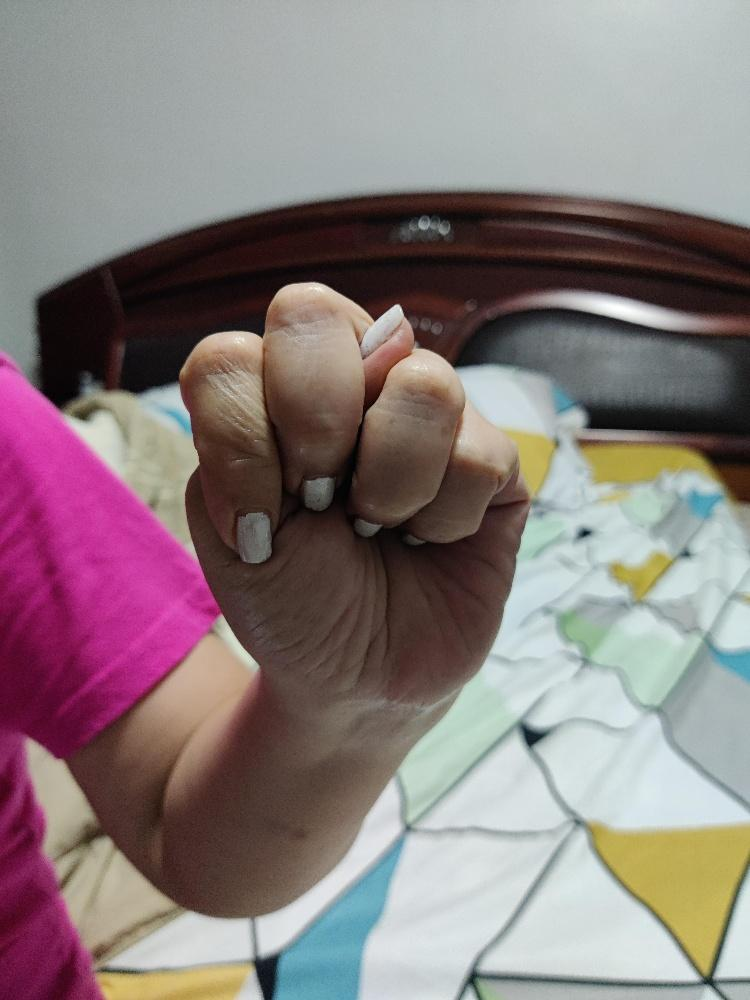n: (176, 276, 531, 708)
